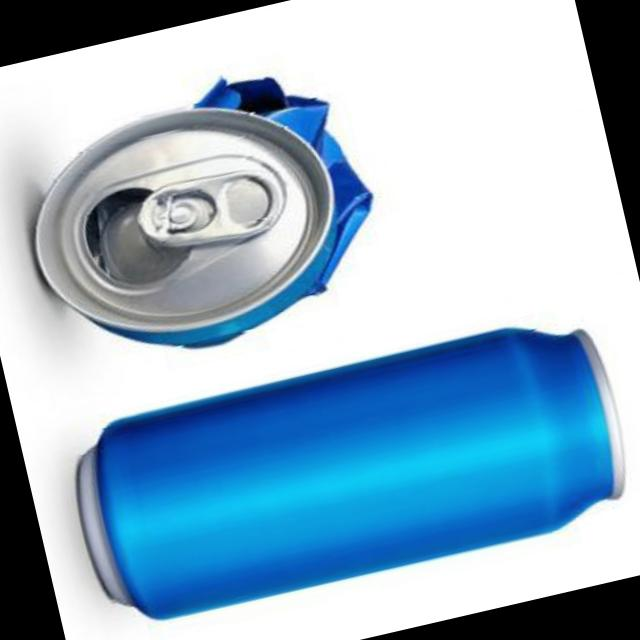metal: (81, 330, 626, 619), (38, 79, 374, 347)
